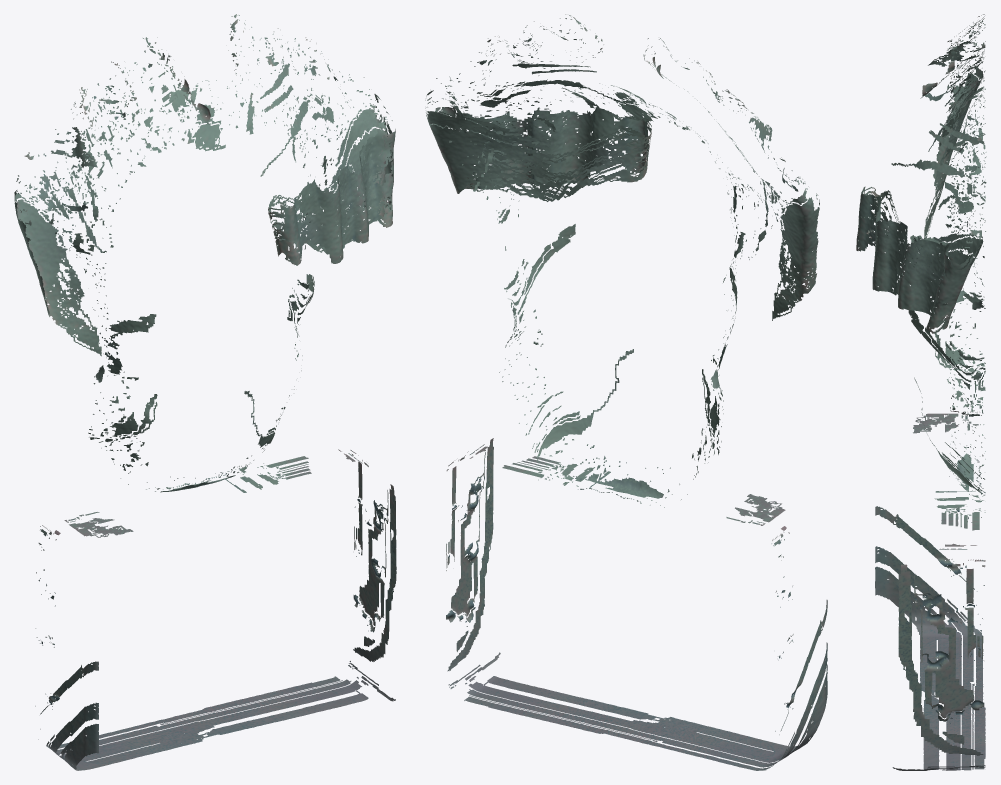
File: cthulhu17_material_0.009_lev1.glb
3 renders of one model, left to right at view 1: azimuth 30°, elevation 25°; view 2: azimuth 150°, elevation 25°; view 3: azimuth 270°, elevation 25°, orthographic. The views are drawn at different scales.
Visible parts, largest first — view 1: cthulhu17_material_0.009_lev1; view 2: cthulhu17_material_0.009_lev1; view 3: cthulhu17_material_0.009_lev1.
Boxes of the visible parts, bbox=[...] form: cthulhu17_material_0.009_lev1: bbox=[14, 14, 396, 770]; cthulhu17_material_0.009_lev1: bbox=[425, 14, 827, 770]; cthulhu17_material_0.009_lev1: bbox=[856, 14, 986, 770].
Size of the model in its own units: 2.88 by 5.09 by 0.905.
